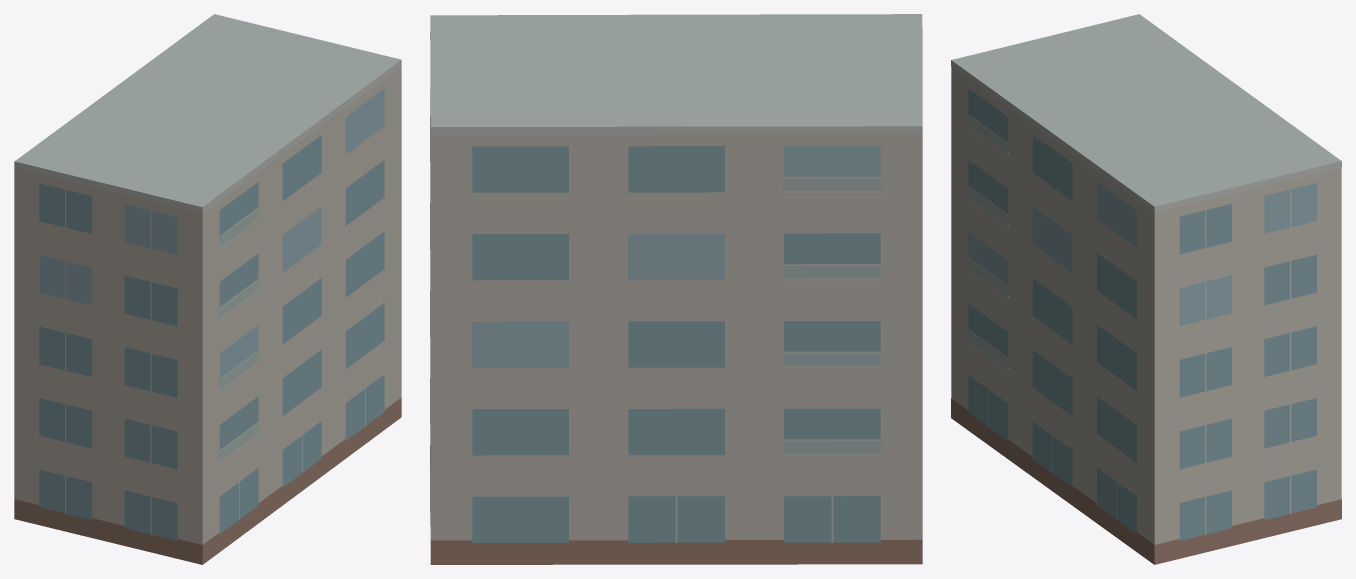
Rendered from survey-upis-32980226.glb.
3 renders of one model, left to right at view 1: azimuth 30°, elevation 25°; view 2: azimuth 150°, elevation 25°; view 3: azimuth 270°, elevation 25°, orthographic. The views are drawn at different scales.
Visible parts, largest first — view 1: survey-upis-32980226.tmp; view 2: survey-upis-32980226.tmp; view 3: survey-upis-32980226.tmp.
Part boxes in pixels (<box>): survey-upis-32980226.tmp: <box>14,14,401,564</box>; survey-upis-32980226.tmp: <box>430,14,922,564</box>; survey-upis-32980226.tmp: <box>951,14,1341,564</box>.
Size of the model in its own units: 15.92 by 13.78 by 13.63.
